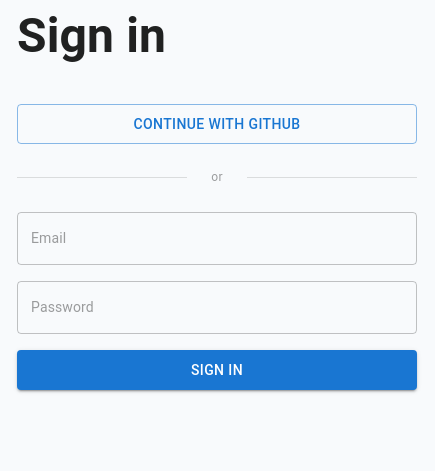
LoginPage › shows error alert on login failure
Step 1. Type "bad@test.com" into the field with test id "login-email" → (217, 238), box x1=17 y1=212 x2=417 y2=265
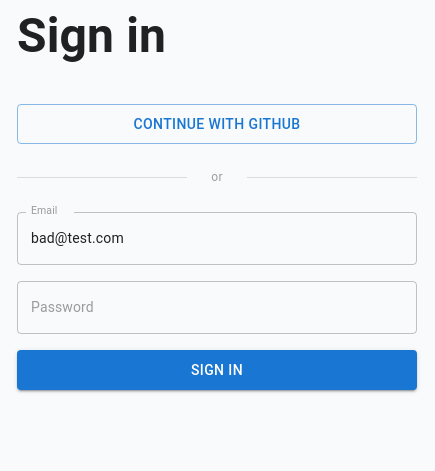
Step 2. Type "wrong" into the password field with test id "login-password" → (217, 308), box x1=17 y1=281 x2=417 y2=334
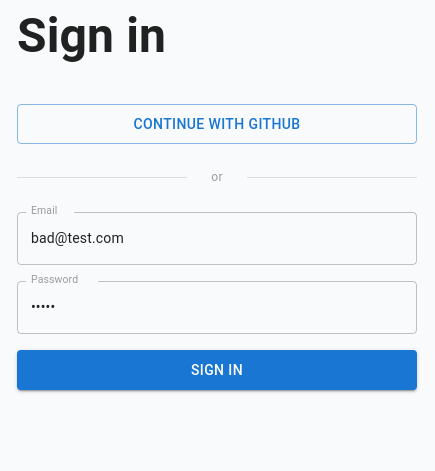
Step 3. Click the button with test id "login-submit" → (217, 370), box x1=17 y1=350 x2=417 y2=390
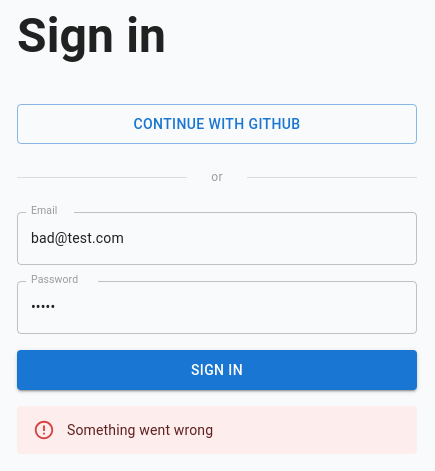
expect the message "Something went wrong" is shown: met, box x1=17 y1=406 x2=417 y2=454
